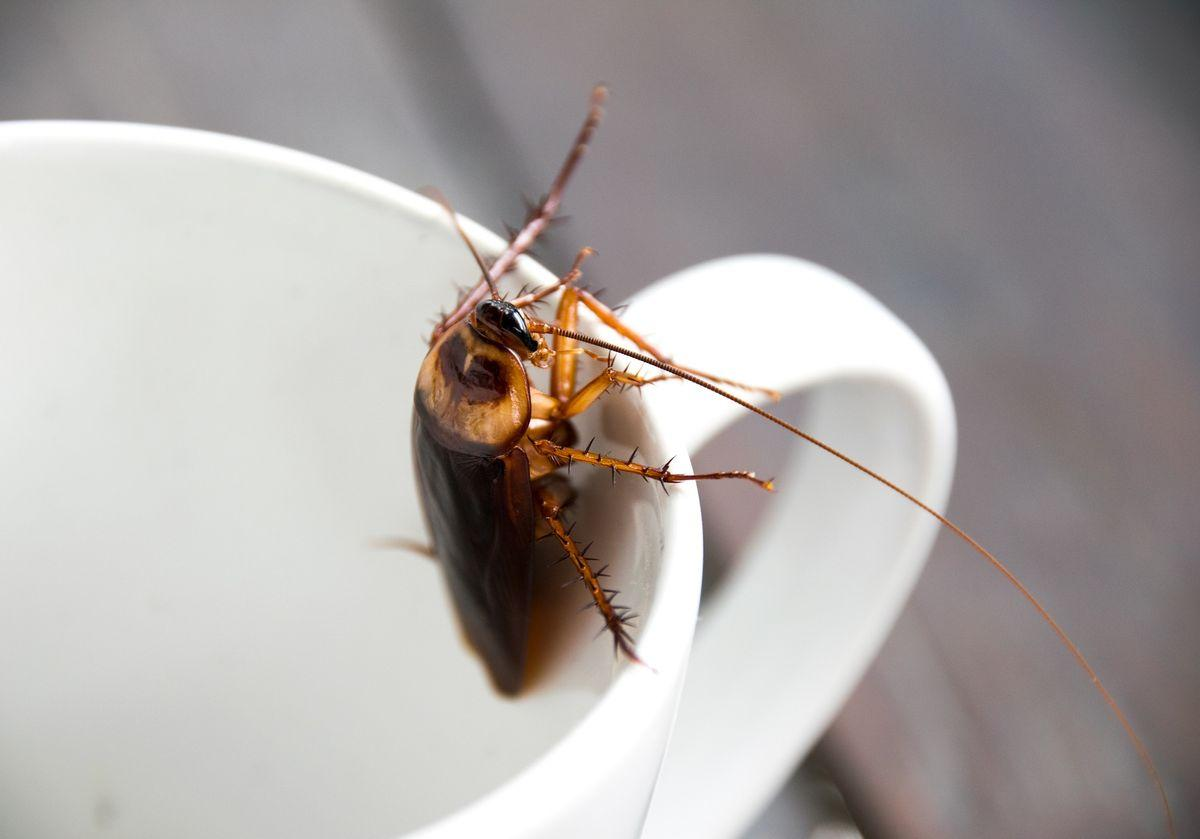cockroach: (403, 259, 603, 702)
